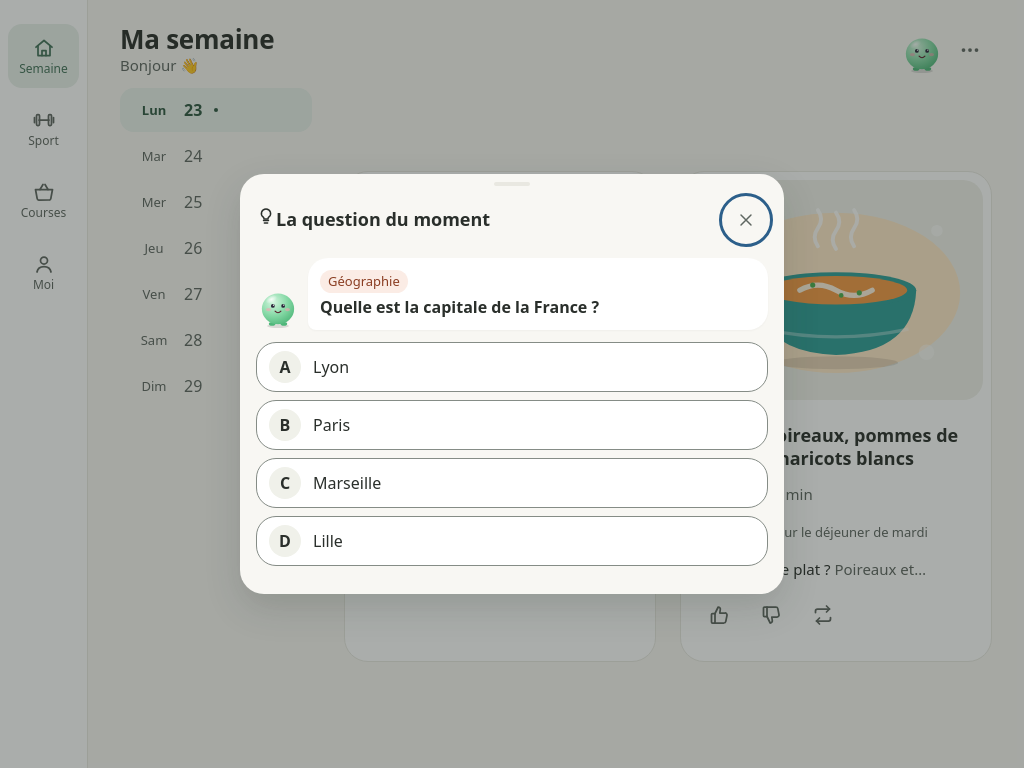
Test: carte quiz › fermée sans réponse : la série reste intacte
Click the button named "Fermer la question du moment": (746, 220) [724,198,768,242]
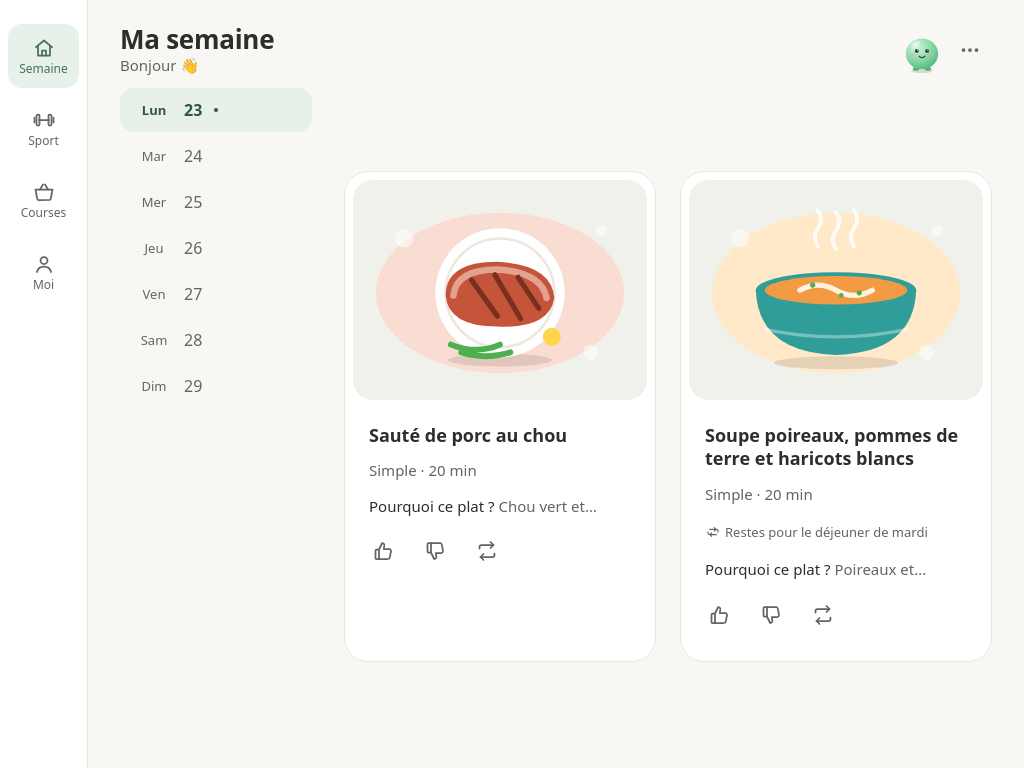
Check: the dialog is gone
